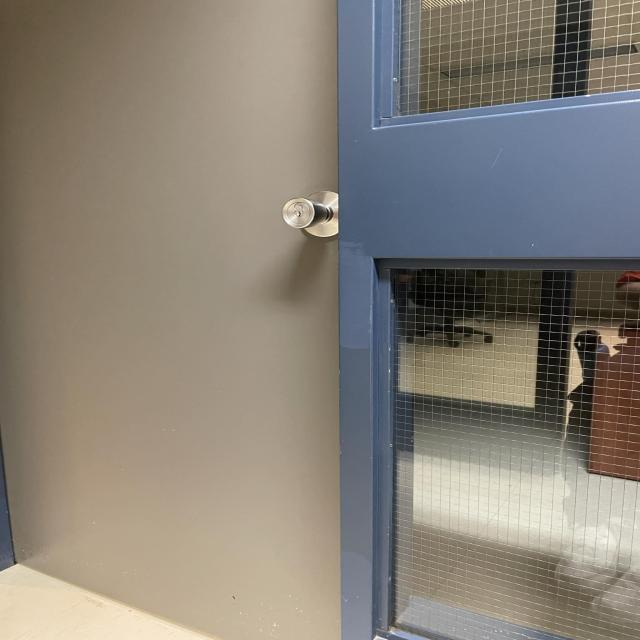door-knob: (282, 191, 338, 238)
